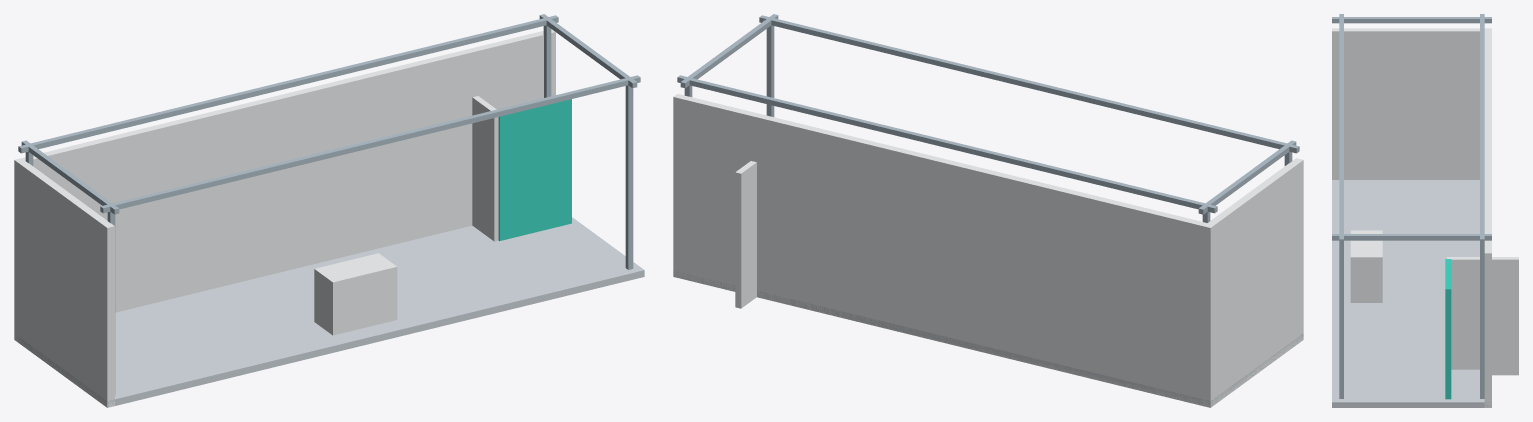
The picture shows the model from 3 angles, left to right: view 1: azimuth 30°, elevation 25°; view 2: azimuth 150°, elevation 25°; view 3: azimuth 270°, elevation 25°; orthographic projection. The views are drawn at different scales.
Visible parts, largest first — view 1: Exhibition Booth Concept; view 2: Exhibition Booth Concept; view 3: Exhibition Booth Concept.
Boxes of the visible parts, bbox=[...] form: Exhibition Booth Concept: bbox=[14, 14, 644, 407]; Exhibition Booth Concept: bbox=[673, 14, 1303, 407]; Exhibition Booth Concept: bbox=[1332, 14, 1518, 407].
Bounding box in the file's own units: 10 × 3.49 × 3.51.
